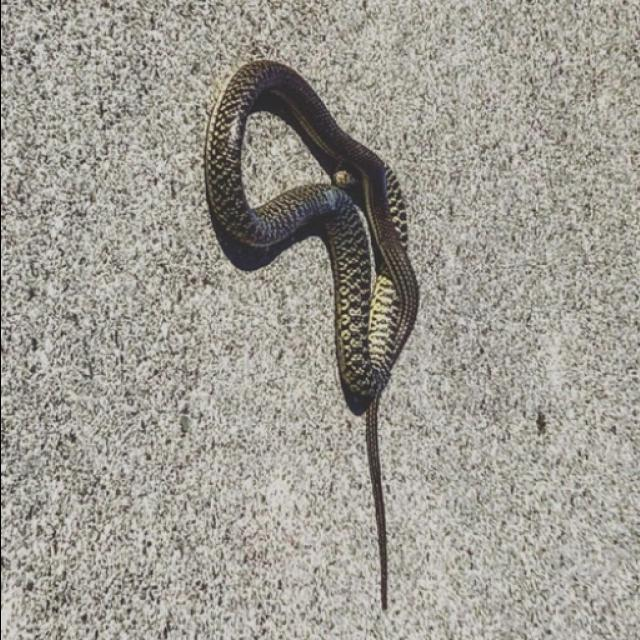snake: (194, 54, 432, 616)
